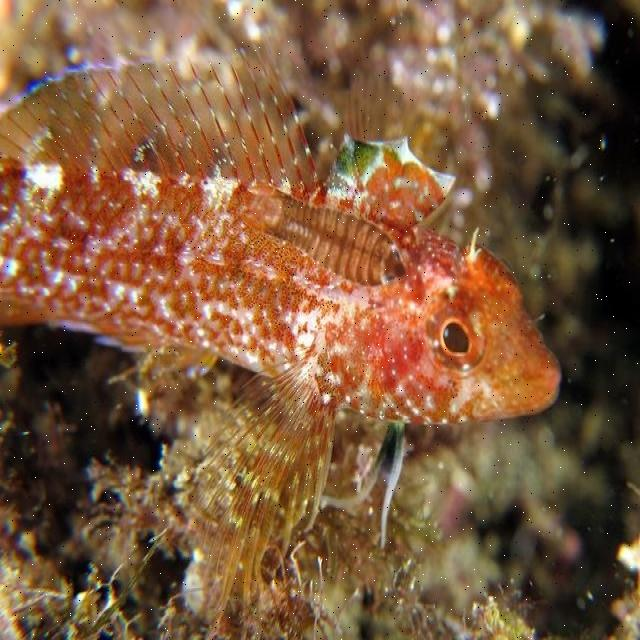fish: (0, 40, 564, 600)
